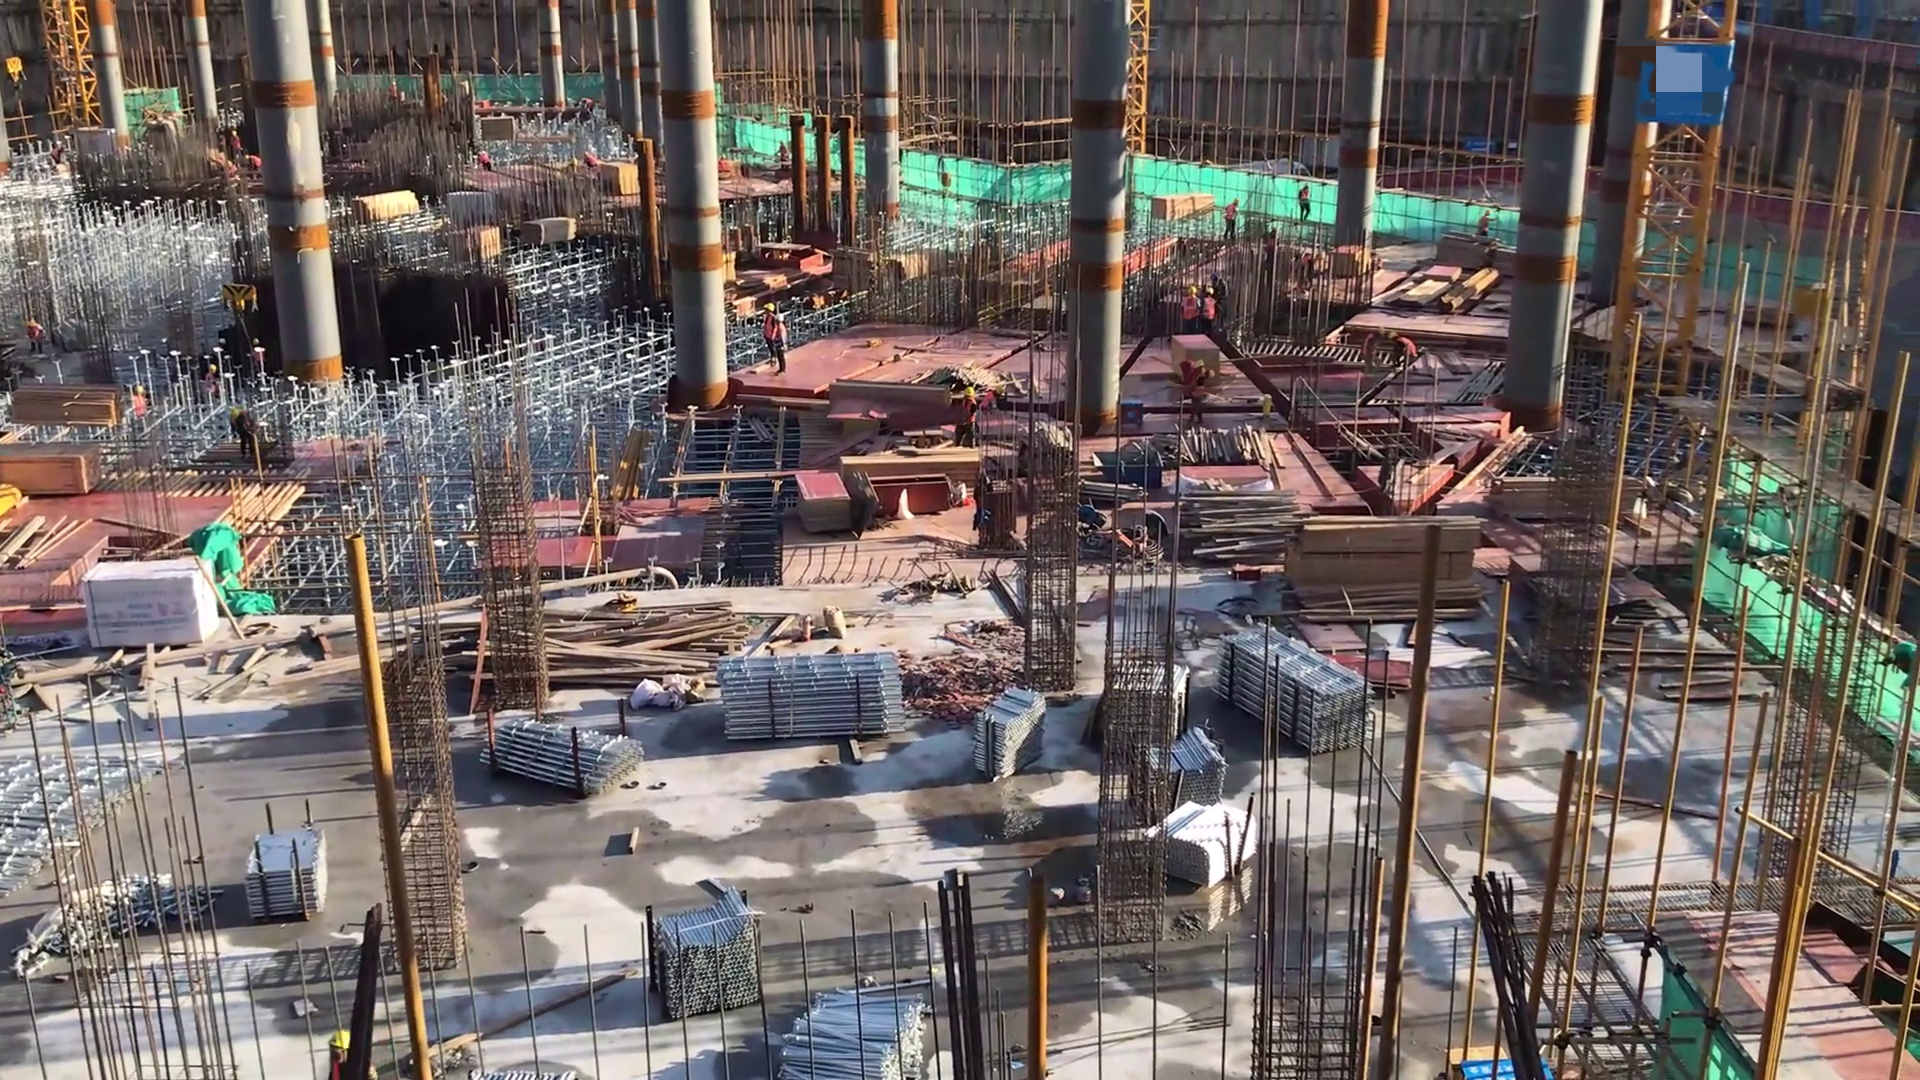board: (1326, 649, 1418, 698), (794, 469, 853, 539), (605, 159, 642, 197)
helmet: (326, 1029, 357, 1052), (230, 403, 243, 425), (132, 381, 148, 398), (1191, 357, 1207, 373), (1387, 330, 1402, 344), (993, 383, 1007, 397), (963, 387, 976, 402), (1482, 206, 1494, 220), (763, 302, 777, 314), (1202, 287, 1216, 299), (774, 312, 786, 325), (1188, 286, 1198, 299), (229, 131, 239, 141), (1231, 196, 1242, 206)
hook: (1093, 448, 1176, 496), (4, 44, 30, 87)
person: (323, 1027, 383, 1080), (1185, 361, 1217, 433), (1385, 328, 1427, 367), (959, 388, 983, 450), (126, 376, 152, 434), (770, 311, 792, 376), (229, 405, 255, 462), (1198, 285, 1223, 337), (761, 301, 778, 368), (1296, 179, 1319, 229), (1181, 283, 1201, 337), (24, 319, 48, 361), (1223, 197, 1241, 249), (978, 383, 1006, 417), (473, 143, 495, 182), (1478, 207, 1496, 245), (228, 124, 244, 165), (47, 140, 65, 173), (582, 151, 604, 177), (243, 153, 264, 180)
scaffold: (715, 653, 911, 762), (1211, 632, 1379, 757), (630, 884, 783, 1019), (772, 971, 939, 1080), (492, 712, 650, 797), (1133, 728, 1233, 830)
slogan: (1469, 1041, 1534, 1080)
vest: (1399, 336, 1422, 360), (959, 397, 976, 427), (1190, 371, 1207, 401), (1182, 294, 1200, 322), (1201, 296, 1219, 325)
wood: (1284, 512, 1485, 629), (547, 598, 749, 689), (1174, 494, 1303, 568), (1489, 474, 1638, 532), (6, 436, 105, 510), (9, 376, 135, 430), (353, 186, 418, 229), (514, 213, 589, 251), (1152, 189, 1217, 228)
